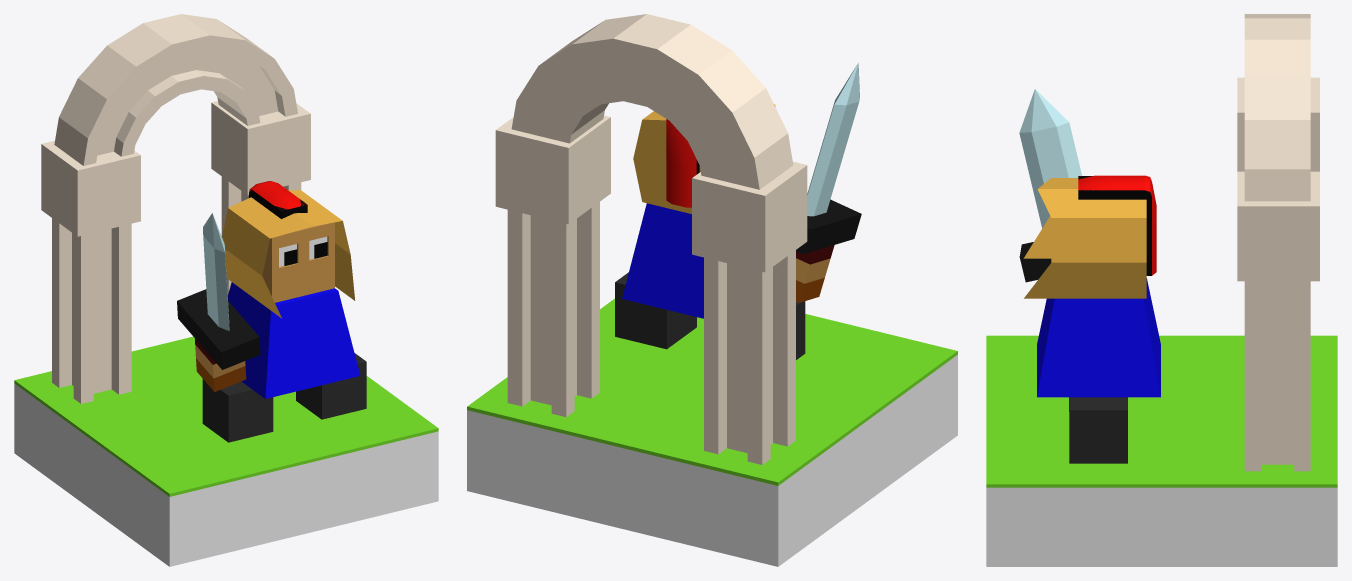
The model's file is imperius.gltf.
3 views of the same model, side by side, from view 1: azimuth 30°, elevation 25°; view 2: azimuth 150°, elevation 25°; view 3: azimuth 270°, elevation 25° (orthographic). The views are drawn at different scales.
Parts seen in each view (by area): view 1: Plane.002, Plane.003, Cube.010, Cube.004, Unit, Cube.011, Cube.012, Plane, Plane.004, Head, Cube.003, Right leg (+5 smaller); view 2: Plane.002, Plane.004, Cube.010, Cube.009, Cube.004, Plane.003, Cube.011, Cube.012, Unit, Cone, Left leg, Plane (+3 smaller); view 3: Plane.003, Plane.002, Plane.004, Cube.010, Cube.009, Unit, Plane, Cube.012, Cone, Left leg, Cube.011, Plane.005 (+2 smaller).
Boxes of the visible parts, bbox=[...] form: Plane.002: bbox=[14, 383, 438, 566]; Plane.003: bbox=[14, 336, 437, 493]; Cube.010: bbox=[54, 14, 297, 165]; Cube.004: bbox=[52, 218, 131, 403]; Unit: bbox=[227, 282, 360, 398]; Cube.011: bbox=[41, 140, 140, 236]; Cube.012: bbox=[211, 101, 310, 195]; Plane: bbox=[222, 190, 355, 318]; Plane.004: bbox=[14, 337, 438, 496]; Head: bbox=[262, 222, 334, 302]; Cube.003: bbox=[177, 289, 260, 369]; Right leg: bbox=[202, 379, 273, 442]; Plane.002: bbox=[467, 354, 957, 566]; Plane.004: bbox=[467, 299, 957, 485]; Cube.010: bbox=[511, 14, 793, 189]; Cube.009: bbox=[507, 202, 599, 416]; Cube.004: bbox=[704, 250, 795, 464]; Plane.003: bbox=[467, 298, 956, 482]; Cube.011: bbox=[692, 161, 807, 272]; Cube.012: bbox=[495, 115, 610, 224]; Unit: bbox=[622, 203, 703, 318]; Cone: bbox=[807, 62, 859, 216]; Left leg: bbox=[615, 272, 696, 349]; Plane: bbox=[633, 104, 775, 213]; Plane.003: bbox=[986, 335, 1337, 484]; Plane.002: bbox=[986, 487, 1337, 566]; Plane.004: bbox=[986, 335, 1337, 487]; Cube.010: bbox=[1244, 14, 1310, 201]; Cube.009: bbox=[1244, 281, 1310, 471]; Unit: bbox=[1037, 278, 1160, 397]; Plane: bbox=[1023, 178, 1146, 298]; Cube.012: bbox=[1237, 171, 1319, 281]; Cone: bbox=[1019, 89, 1081, 228]; Left leg: bbox=[1069, 397, 1127, 463]; Cube.011: bbox=[1237, 77, 1319, 171]; Plane.005: bbox=[1078, 175, 1156, 275].
Bounding box in the file's own units: 0.851 × 1.24 × 0.851.
